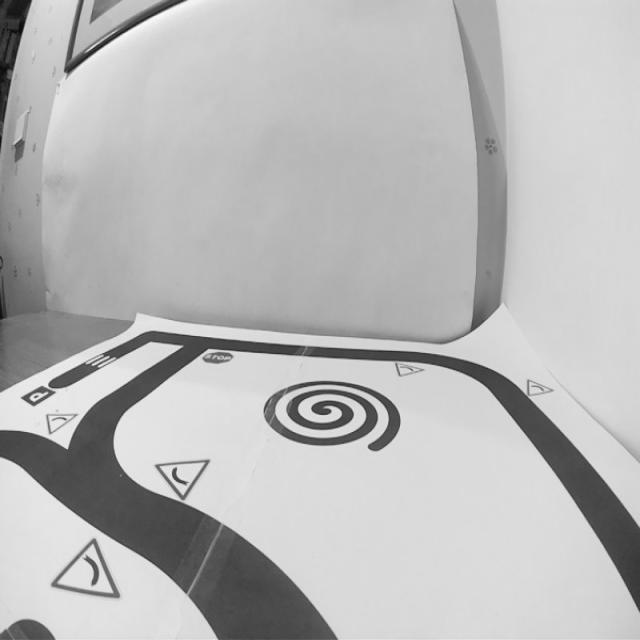nest: (256, 373, 406, 461)
